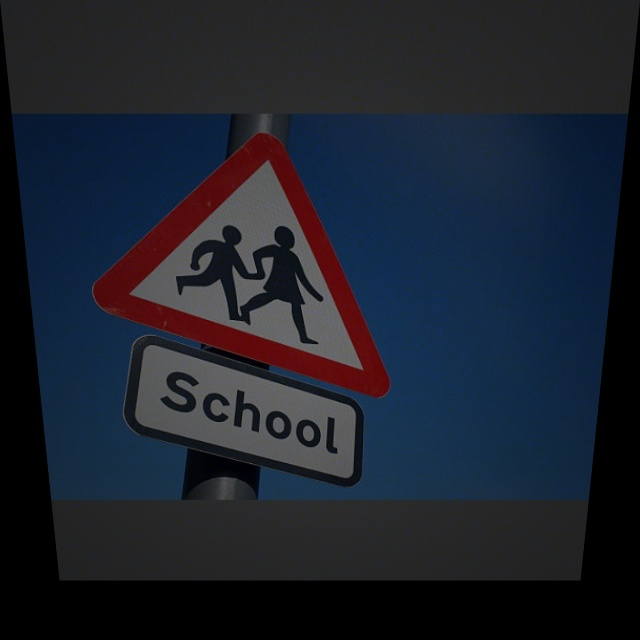School_Ahead: (85, 121, 413, 386)
